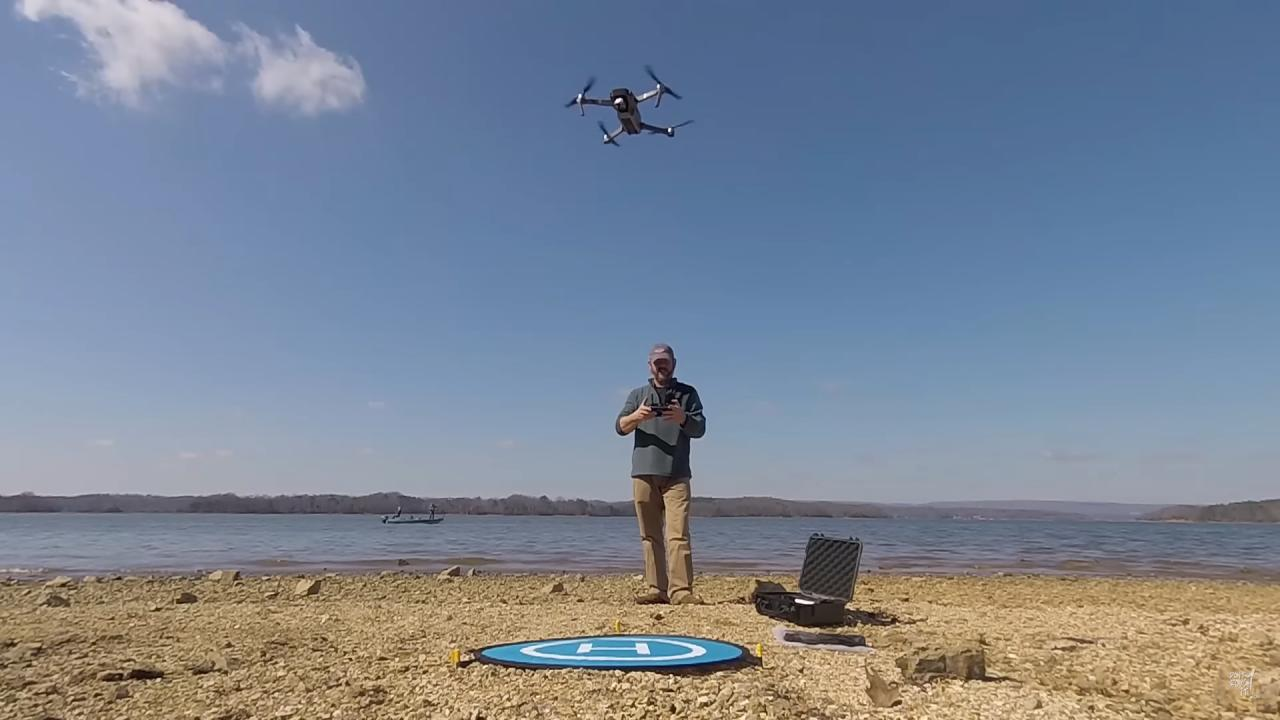Drone: (551, 53, 705, 160)
